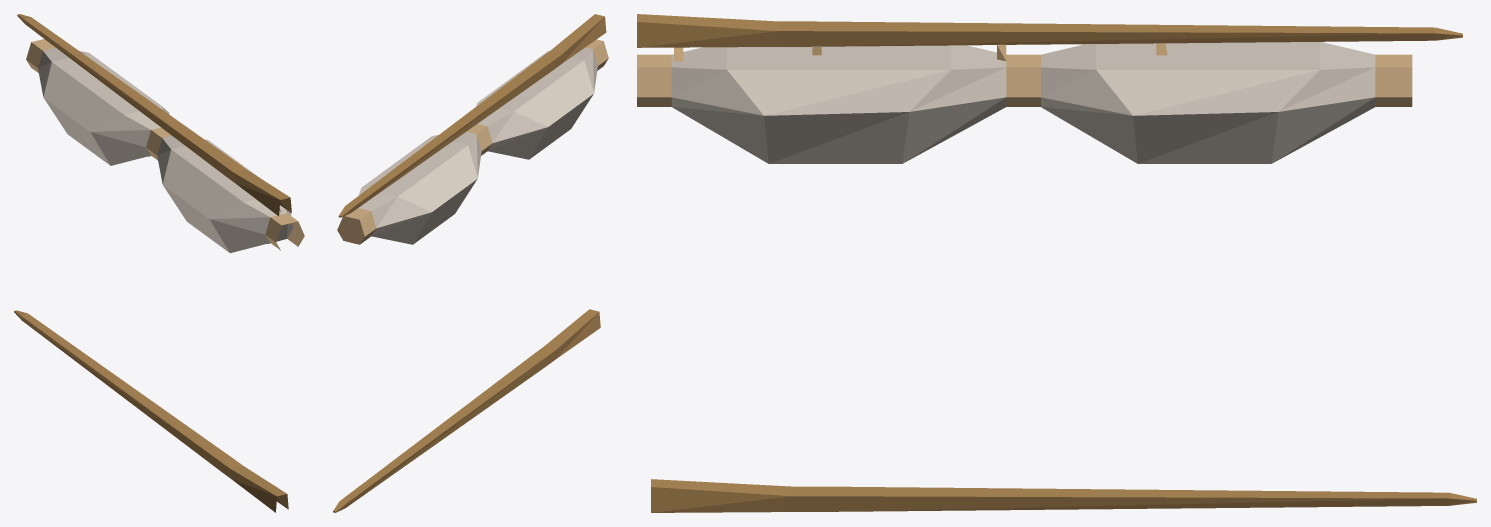
File: obj_hoisted_sail_2_0.obj
The picture shows the model from 3 angles, left to right: view 1: azimuth 30°, elevation 25°; view 2: azimuth 150°, elevation 25°; view 3: azimuth 270°, elevation 25°; orthographic projection. The views are drawn at different scales.
Size of the model in its own units: 0.4766 by 1.83 by 2.84.
